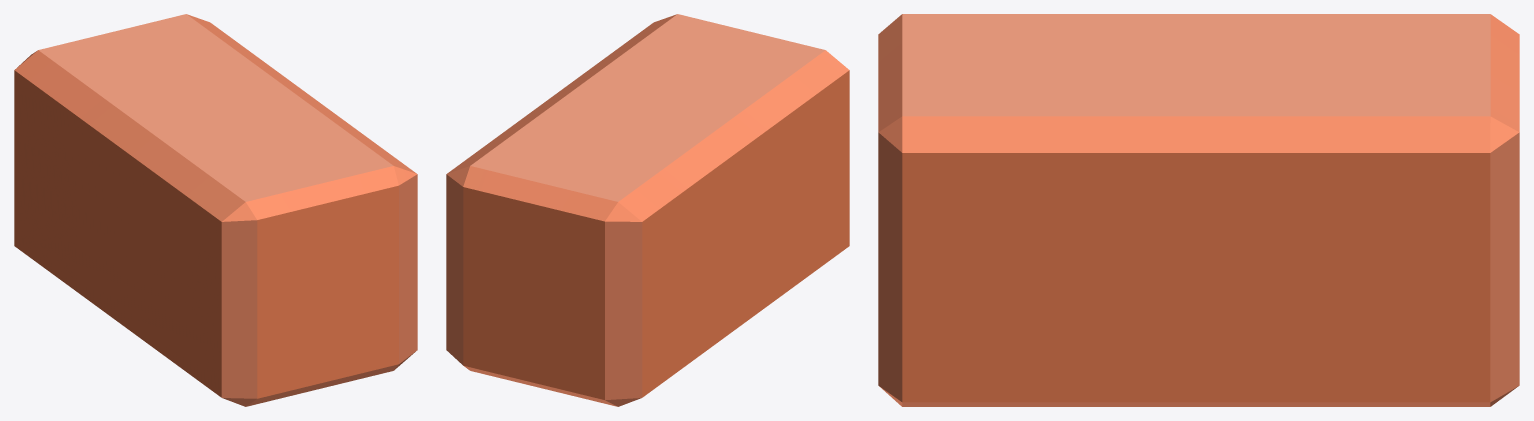
Rendered from Spawned_Asset.fbx.
3 views of the same model, side by side, from view 1: azimuth 30°, elevation 25°; view 2: azimuth 150°, elevation 25°; view 3: azimuth 270°, elevation 25° (orthographic). The views are drawn at different scales.
Visible parts, largest first — view 1: Brick.008; view 2: Brick.008; view 3: Brick.008.
Boxes of the visible parts, x1=… form: Brick.008: x1=14, y1=14, x2=417, y2=406; Brick.008: x1=446, y1=14, x2=849, y2=406; Brick.008: x1=878, y1=14, x2=1519, y2=406.
Bounding box in the file's own units: 0.2793 × 0.2794 × 0.5585.
Materials: 1 (1 with a texture image).
